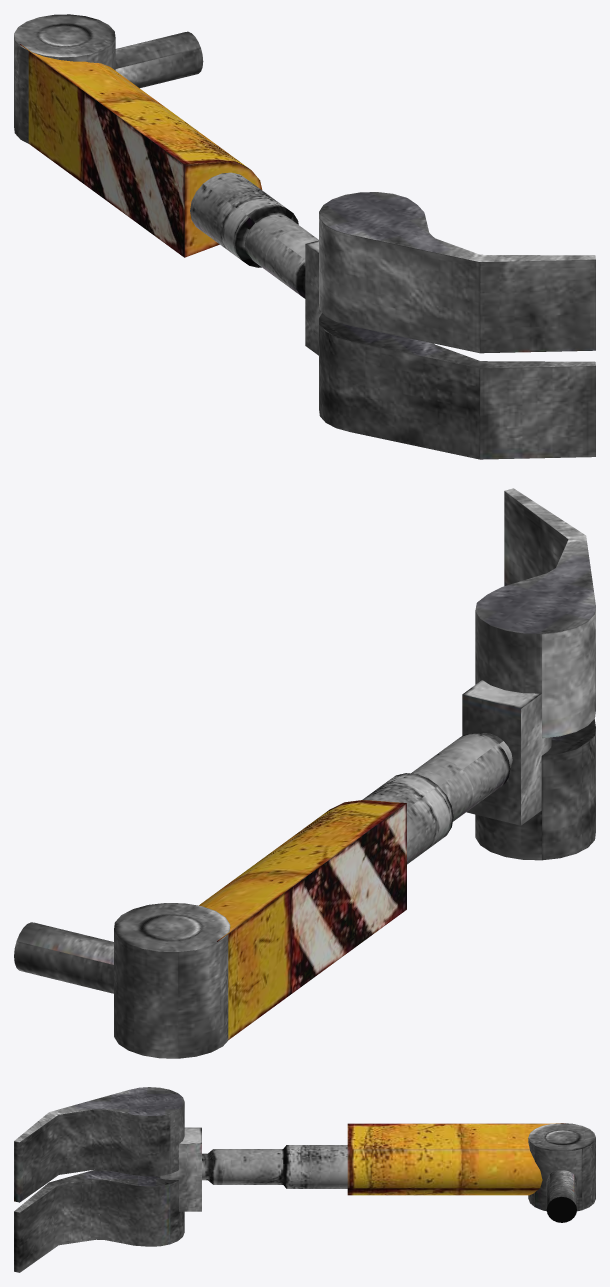
Rendered from rightarm_080401.dae.
3 renders of one model, top to bottom at view 1: azimuth 30°, elevation 25°; view 2: azimuth 150°, elevation 25°; view 3: azimuth 270°, elevation 25°, orthographic. The views are drawn at different scales.
Visible parts, largest first — view 1: rightArm07, rightArm06, rightArm03, rightArm04, rightArm02, rightArm01, rightArm05; view 2: rightArm03, rightArm07, rightArm02, rightArm06, rightArm04, rightArm05, rightArm01; view 3: rightArm03, rightArm07, rightArm06, rightArm04, rightArm02, rightArm05, rightArm01.
Part boxes in pixels (box(x1,y1,x2,y2)): rightArm07: box(319, 192, 595, 353); rightArm06: box(319, 313, 595, 459); rightArm03: box(19, 44, 262, 257); rightArm04: box(190, 172, 318, 298); rightArm02: box(14, 14, 115, 143); rightArm01: box(115, 31, 203, 88); rightArm05: box(305, 240, 321, 355); rightArm03: box(199, 800, 406, 1039); rightArm07: box(475, 488, 595, 738); rightArm02: box(114, 903, 230, 1058); rightArm06: box(475, 719, 595, 860); rightArm04: box(362, 733, 512, 864); rightArm05: box(462, 680, 551, 825); rightArm01: box(14, 922, 113, 993); rightArm03: box(347, 1123, 565, 1195); rightArm07: box(14, 1087, 184, 1202); rightArm06: box(14, 1169, 184, 1272); rightArm04: box(202, 1145, 347, 1188); rightArm02: box(528, 1123, 595, 1211); rightArm05: box(156, 1127, 201, 1211); rightArm01: box(546, 1170, 576, 1222).
Bounding box in the file's own units: 0.82 × 0.871 × 3.52.
1 material, 1 textured.
